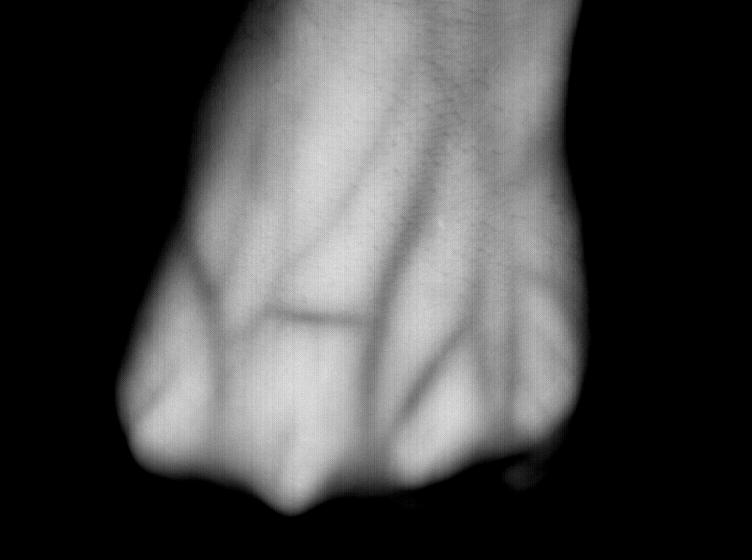Vein: (266, 106, 459, 392)
